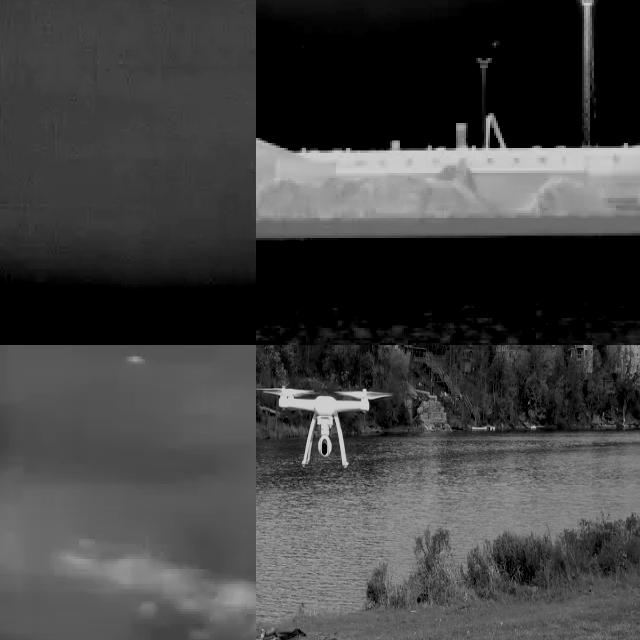0: (115, 346, 151, 376), (480, 33, 506, 58)
drone: (269, 385, 376, 468)
